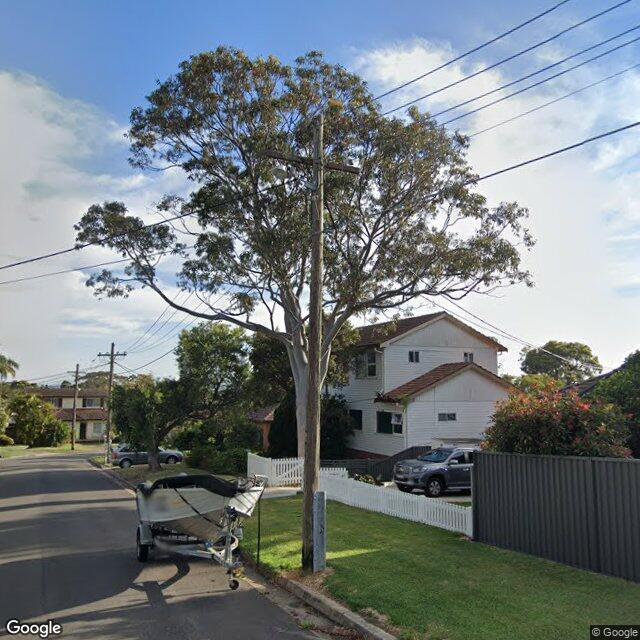crossarm: (262, 144, 361, 175), (97, 352, 127, 358), (67, 370, 86, 374)
timber-pole: (301, 112, 325, 572), (106, 342, 115, 464), (71, 364, 80, 451)
